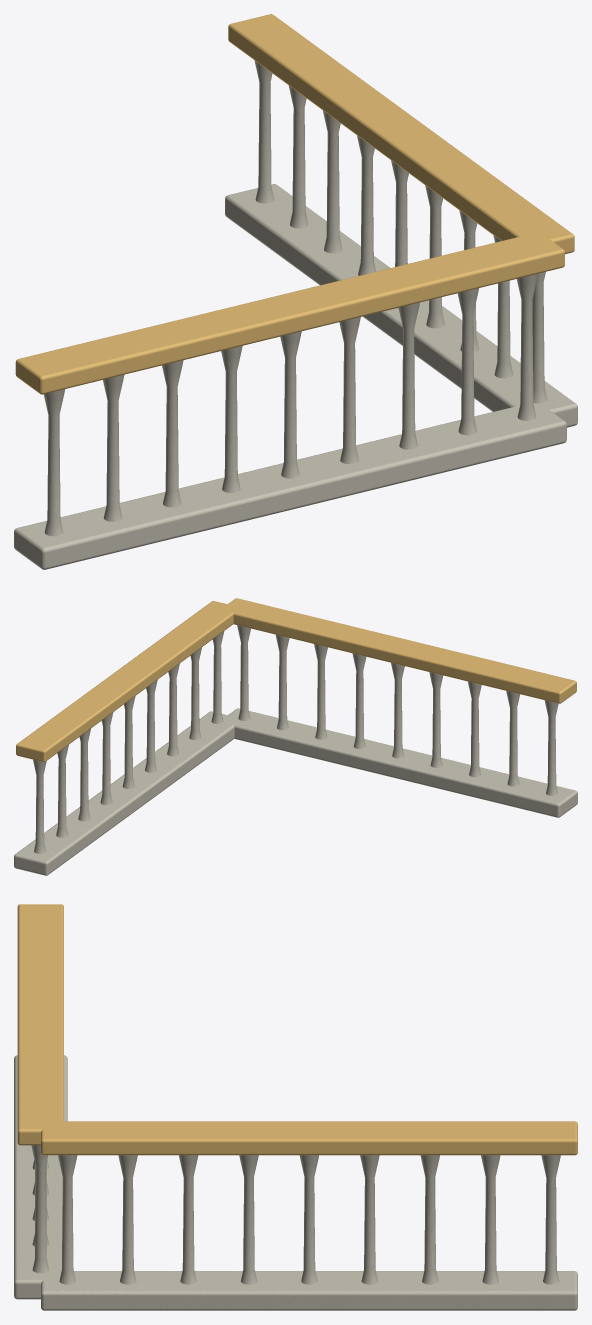
File: arcane-academy-and-spell-trials-balustrade-corner-d3db17c3__28284.glb
The picture shows the model from 3 angles, top to bottom: view 1: azimuth 30°, elevation 25°; view 2: azimuth 150°, elevation 25°; view 3: azimuth 270°, elevation 25°; orthographic projection. The views are drawn at different scales.
Visible parts, largest first — view 1: balustrade-corner; view 2: balustrade-corner; view 3: balustrade-corner.
Boxes of the visible parts, <box> form: balustrade-corner: <box>14,14,577,569</box>; balustrade-corner: <box>14,598,577,875</box>; balustrade-corner: <box>14,904,577,1310</box>.
Bounding box in the file's own units: 3.15 × 1.05 × 3.15.
Materials: 2 (1 with a texture image).
